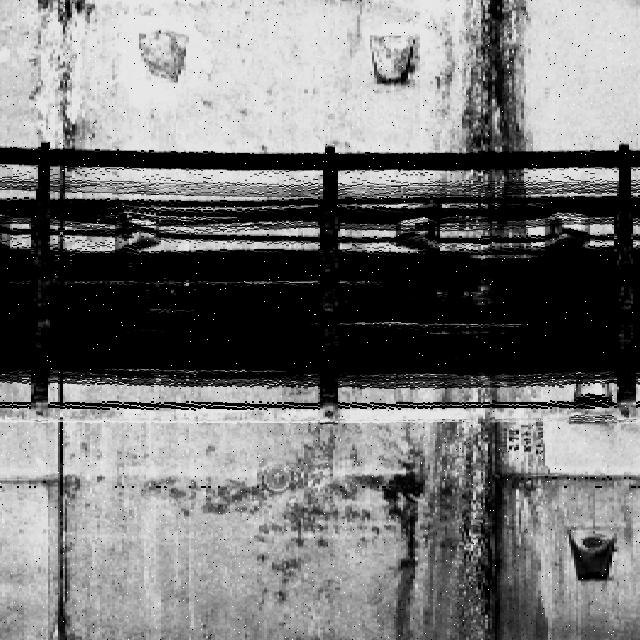leakage: (395, 374, 558, 640), (437, 1, 537, 247)
